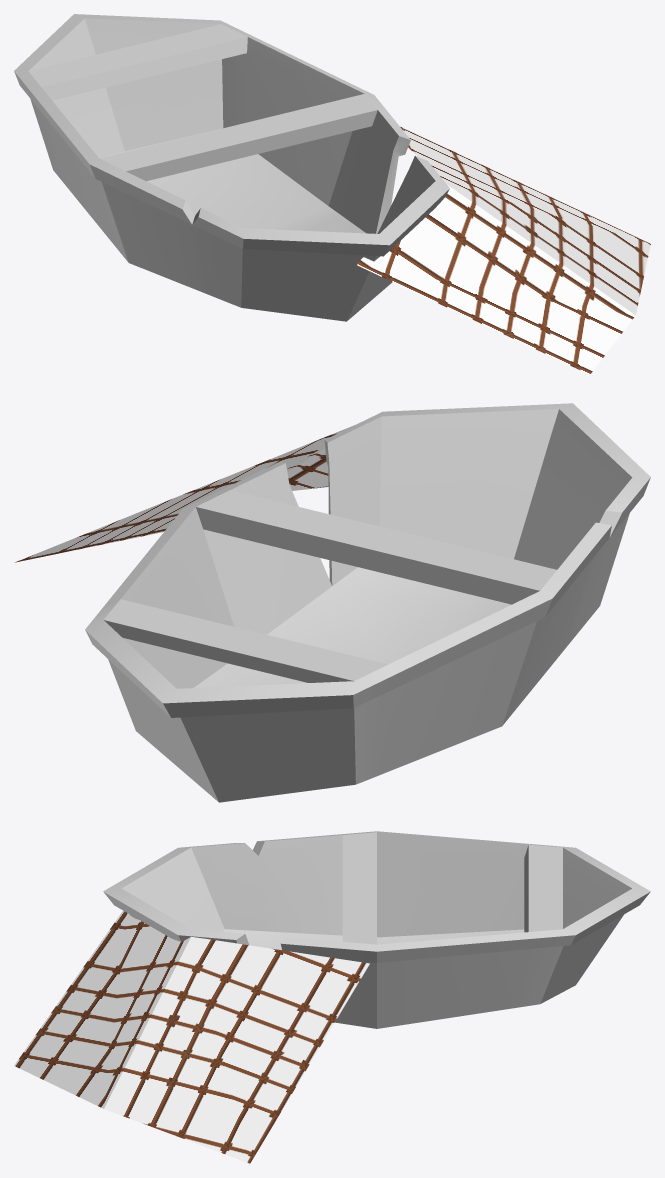
Rendered from SunkenBoat.fbx.
3 renders of one model, top to bottom at view 1: azimuth 30°, elevation 25°; view 2: azimuth 150°, elevation 25°; view 3: azimuth 270°, elevation 25°, orthographic. The views are drawn at different scales.
Visible parts, largest first — view 1: Cube.005, Plane; view 2: Cube.005, Plane; view 3: Cube.005, Plane.
Boxes of the visible parts, bbox=[...] form: Cube.005: bbox=[14, 14, 449, 321]; Plane: bbox=[356, 126, 650, 374]; Cube.005: bbox=[85, 403, 650, 802]; Plane: bbox=[15, 425, 354, 562]; Cube.005: bbox=[103, 831, 650, 1028]; Plane: bbox=[14, 910, 369, 1163].
Bounding box in the file's own units: 288 × 83.82 × 375.
